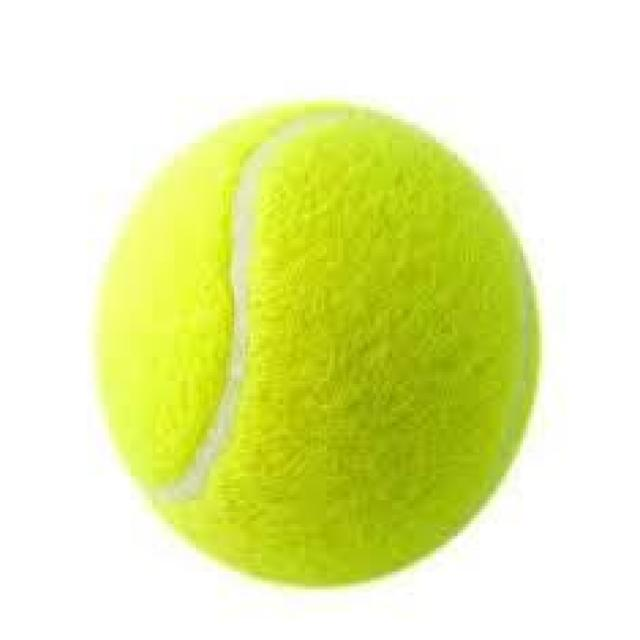ball: (82, 88, 550, 590)
